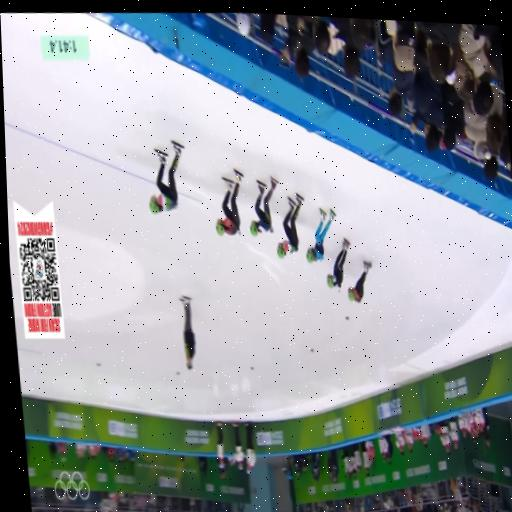Skater: (149, 141, 182, 213), (215, 169, 242, 234), (277, 193, 302, 257), (250, 176, 276, 235), (306, 208, 334, 262), (326, 238, 349, 290), (347, 261, 371, 301)
